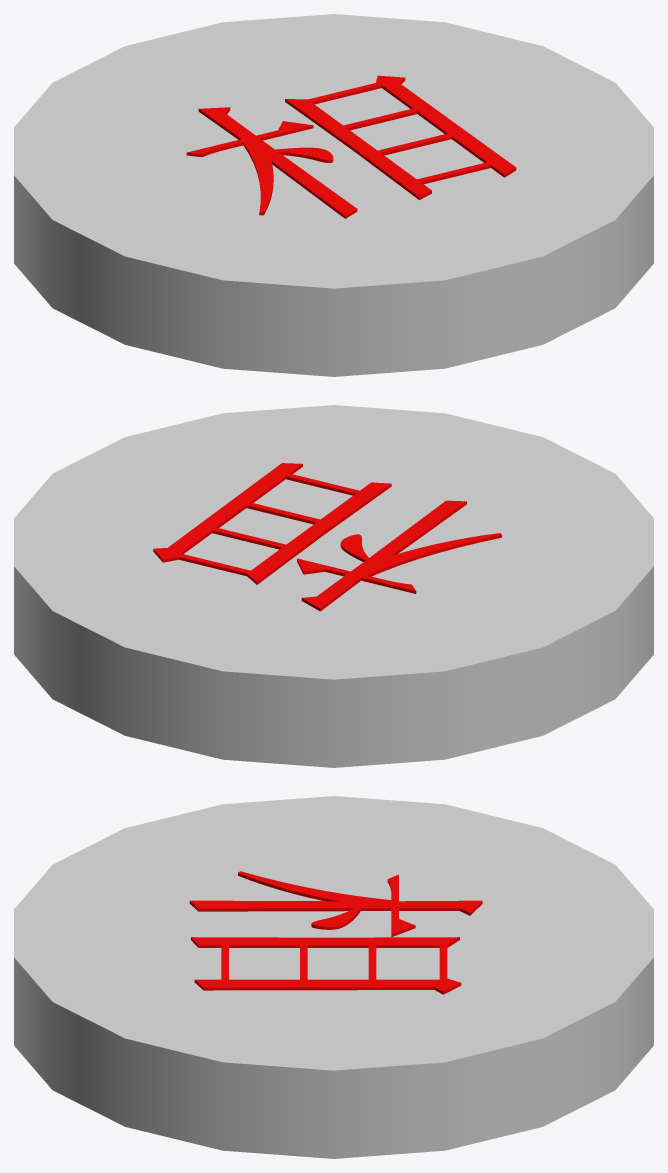
The picture shows the model from 3 angles, top to bottom: view 1: azimuth 30°, elevation 25°; view 2: azimuth 150°, elevation 25°; view 3: azimuth 270°, elevation 25°; orthographic projection.
Parts seen in each view (by area): view 1: Cylinder001, Text001; view 2: Cylinder001, Text001; view 3: Cylinder001, Text001.
Part boxes in pixels (left/top/right/bottom): Cylinder001: left=14, top=14, right=653, bottom=376; Text001: left=186, top=75, right=516, bottom=218; Cylinder001: left=14, top=405, right=653, bottom=767; Text001: left=153, top=463, right=501, bottom=611; Cylinder001: left=14, top=796, right=653, bottom=1158; Text001: left=189, top=871, right=482, bottom=994.
Bounding box in the file's own units: 20 × 19.7 × 3.1.
